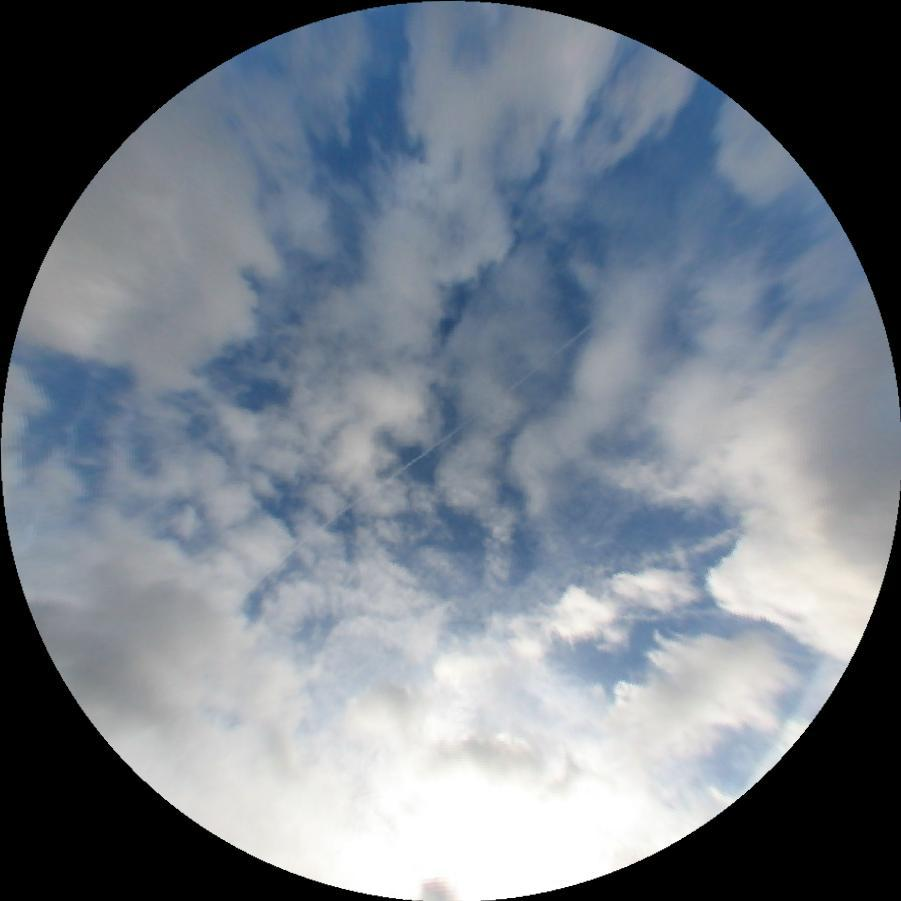contrail young: (260, 320, 591, 576)
